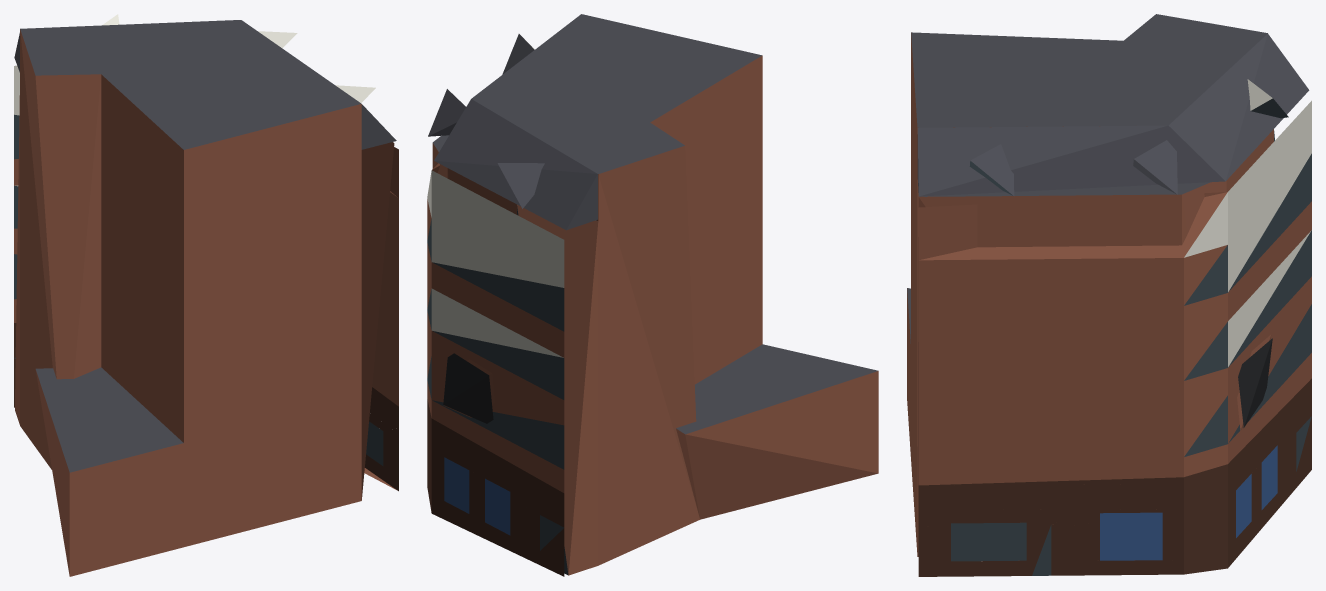
The model's file is sameplace.lod2.glb.
3 renders of one model, left to right at view 1: azimuth 30°, elevation 25°; view 2: azimuth 150°, elevation 25°; view 3: azimuth 270°, elevation 25°, orthographic. The views are drawn at different scales.
Parts seen in each view (by area): view 1: lod2; view 2: lod2; view 3: lod2.
Part boxes in pixels (x1=…): lod2: x1=14, y1=14, x2=398, y2=576; lod2: x1=427, y1=14, x2=878, y2=576; lod2: x1=907, y1=14, x2=1311, y2=576.
Bounding box in the file's own units: 16.19 × 18.6 × 15.64.
